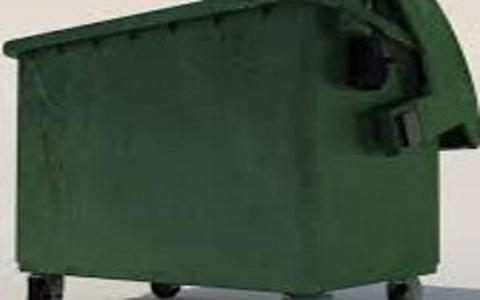Proper garbage: (1, 2, 477, 297)
